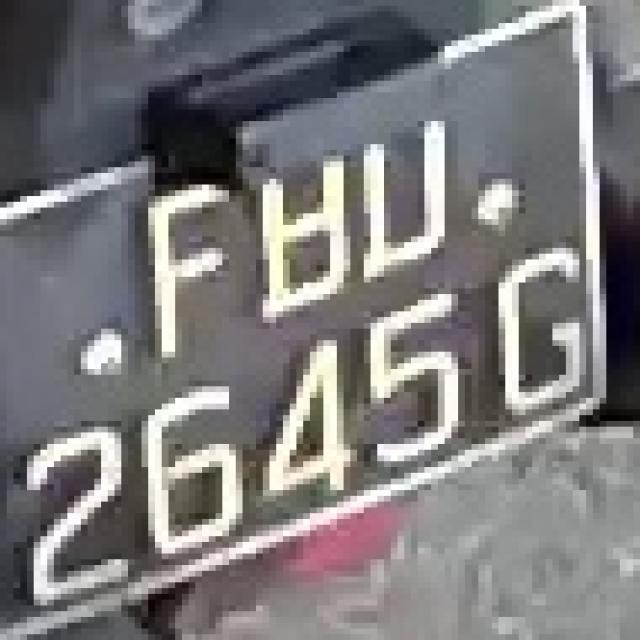2: (13, 415, 128, 623)
4: (243, 317, 357, 525)
5: (357, 294, 478, 467)
6: (121, 386, 256, 560)
B: (236, 115, 364, 323)
D: (357, 92, 478, 288)
F: (128, 173, 243, 386)
G: (492, 225, 613, 432)
